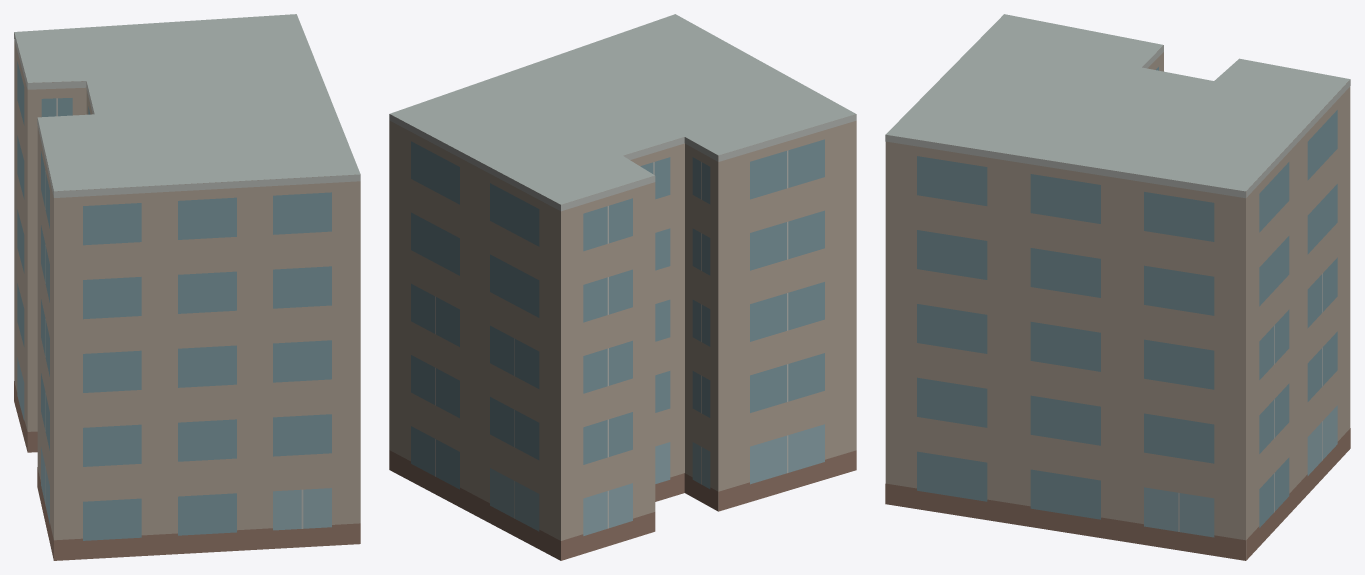
Rendered from survey-upis-32964320.glb.
3 views of the same model, side by side, from view 1: azimuth 30°, elevation 25°; view 2: azimuth 150°, elevation 25°; view 3: azimuth 270°, elevation 25° (orthographic). The views are drawn at different scales.
Parts seen in each view (by area): view 1: survey-upis-32964320.tmp; view 2: survey-upis-32964320.tmp; view 3: survey-upis-32964320.tmp.
Boxes of the visible parts, x1,y1,x2,y2 form: survey-upis-32964320.tmp: [14, 14, 360, 560]; survey-upis-32964320.tmp: [389, 14, 856, 560]; survey-upis-32964320.tmp: [885, 14, 1350, 560].
Bounding box in the file's own units: 13.61 × 13.2 × 15.07.
